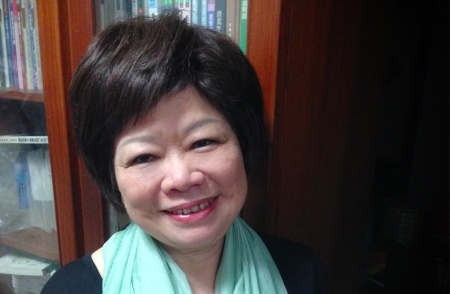female: (71, 17, 281, 251)
